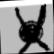not correct: (11, 3, 50, 54)
